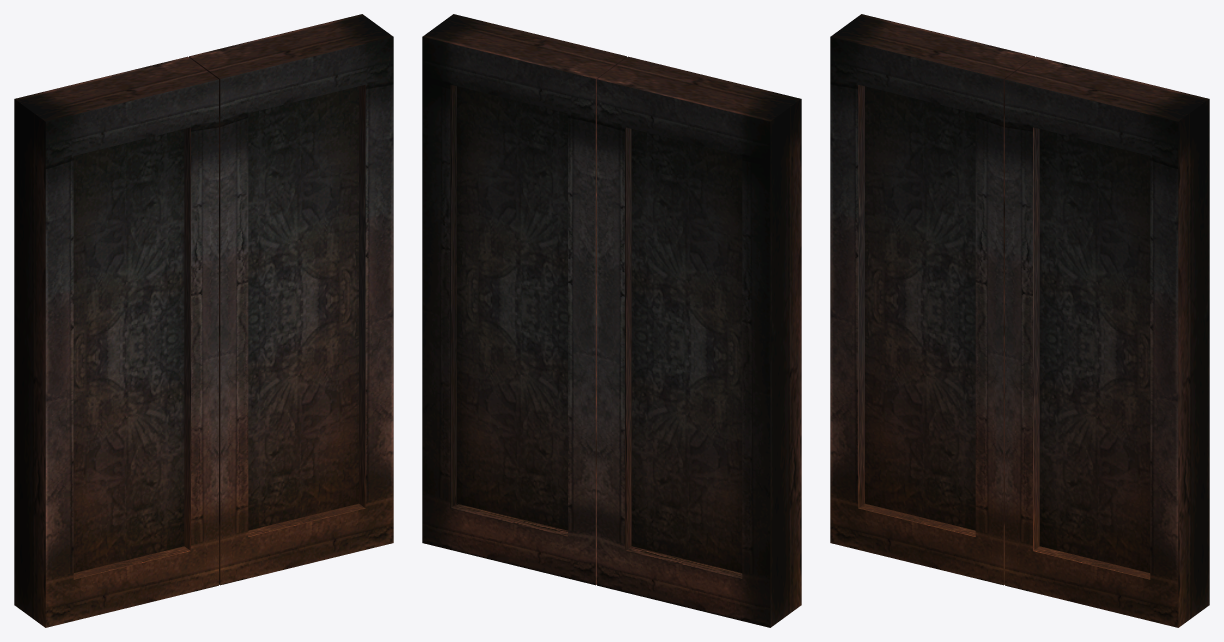
File: map_kazan_door_c.dae
3 views of the same model, side by side, from view 1: azimuth 30°, elevation 25°; view 2: azimuth 150°, elevation 25°; view 3: azimuth 330°, elevation 25° (orthographic).
Parts seen in each view (by area): view 1: map_kazan_door_c.001, map_kazan_door_c; view 2: map_kazan_door_c.001, map_kazan_door_c; view 3: map_kazan_door_c, map_kazan_door_c.001.
Boxes of the visible parts, bbox=[...] form: map_kazan_door_c.001: bbox=[14, 56, 218, 627]; map_kazan_door_c: bbox=[189, 14, 393, 585]; map_kazan_door_c.001: bbox=[597, 56, 801, 627]; map_kazan_door_c: bbox=[422, 14, 626, 585]; map_kazan_door_c: bbox=[1005, 56, 1209, 627]; map_kazan_door_c.001: bbox=[830, 14, 1034, 585].
Bounding box in the file's own units: 7.18 × 1.11 × 9.98.
Materials: 1 (1 with a texture image).
